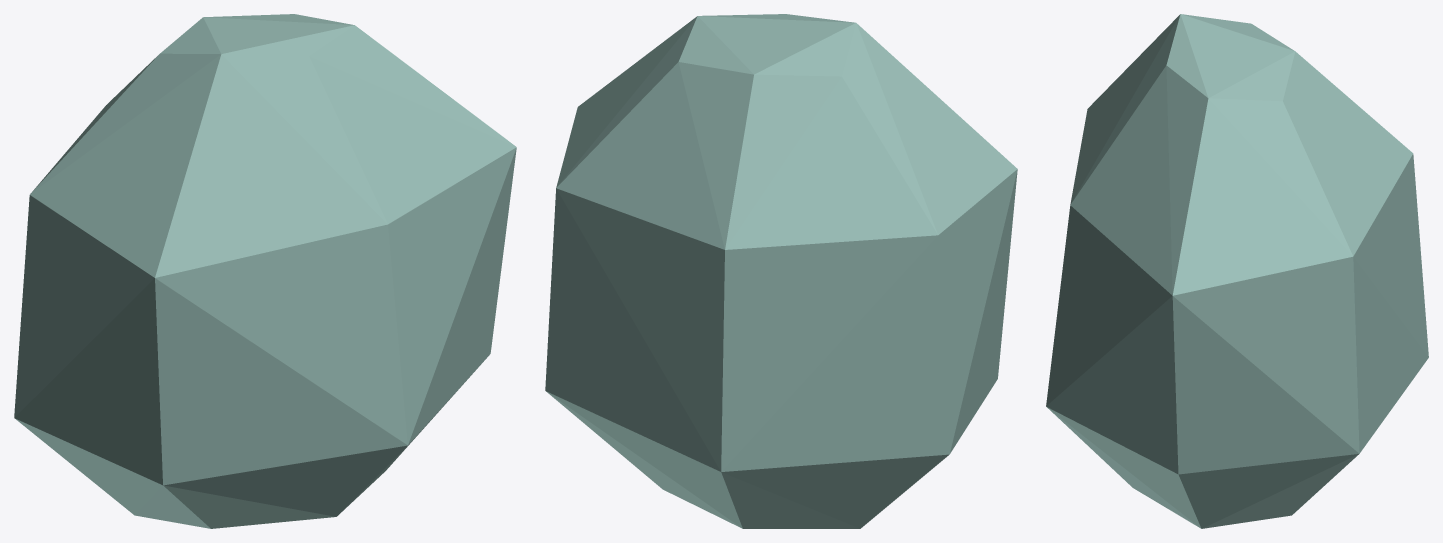
File: SM_MR_Crystal_Loose_02.fbx
3 views of the same model, side by side, from view 1: azimuth 30°, elevation 25°; view 2: azimuth 150°, elevation 25°; view 3: azimuth 270°, elevation 25° (orthographic). The views are drawn at different scales.
Visible parts, largest first — view 1: SM_MR_Crystal_Loose_02; view 2: SM_MR_Crystal_Loose_02; view 3: SM_MR_Crystal_Loose_02.
Part boxes in pixels (x1,y1,x2,y2): SM_MR_Crystal_Loose_02: [14, 14, 516, 528]; SM_MR_Crystal_Loose_02: [545, 14, 1017, 528]; SM_MR_Crystal_Loose_02: [1046, 14, 1428, 528].
Size of the model in its own units: 0.2448 by 0.197 by 0.2536.
